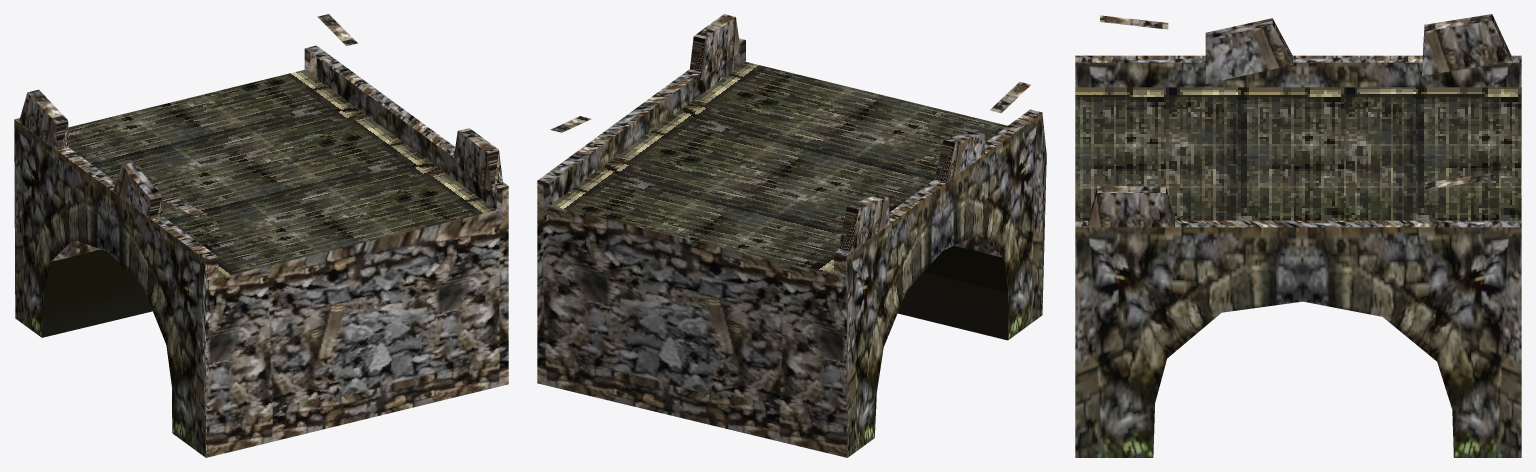
The model's file is Civilian - Commercial Building - Fortress Wall Small Arch - CMWalAkml2_E.glb.
3 renders of one model, left to right at view 1: azimuth 30°, elevation 25°; view 2: azimuth 150°, elevation 25°; view 3: azimuth 270°, elevation 25°, orthographic. The views are drawn at different scales.
Parts seen in each view (by area): view 1: CMWALAKML2_E; view 2: CMWALAKML2_E; view 3: CMWALAKML2_E.
Part boxes in pixels (box(x1,y1,x2,y2)): CMWALAKML2_E: box(14, 14, 508, 457); CMWALAKML2_E: box(537, 14, 1046, 457); CMWALAKML2_E: box(1075, 14, 1521, 457).
Size of the model in its own units: 59.67 by 44.31 by 64.54.
Materials: 5 (5 with a texture image).
